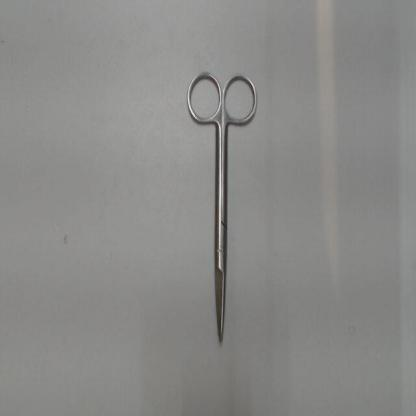Curved Mayo Scissors: (181, 64, 264, 348)
